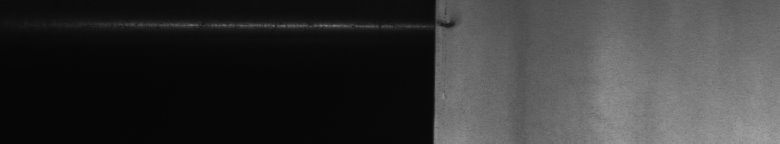hb: (444, 8, 464, 36)
